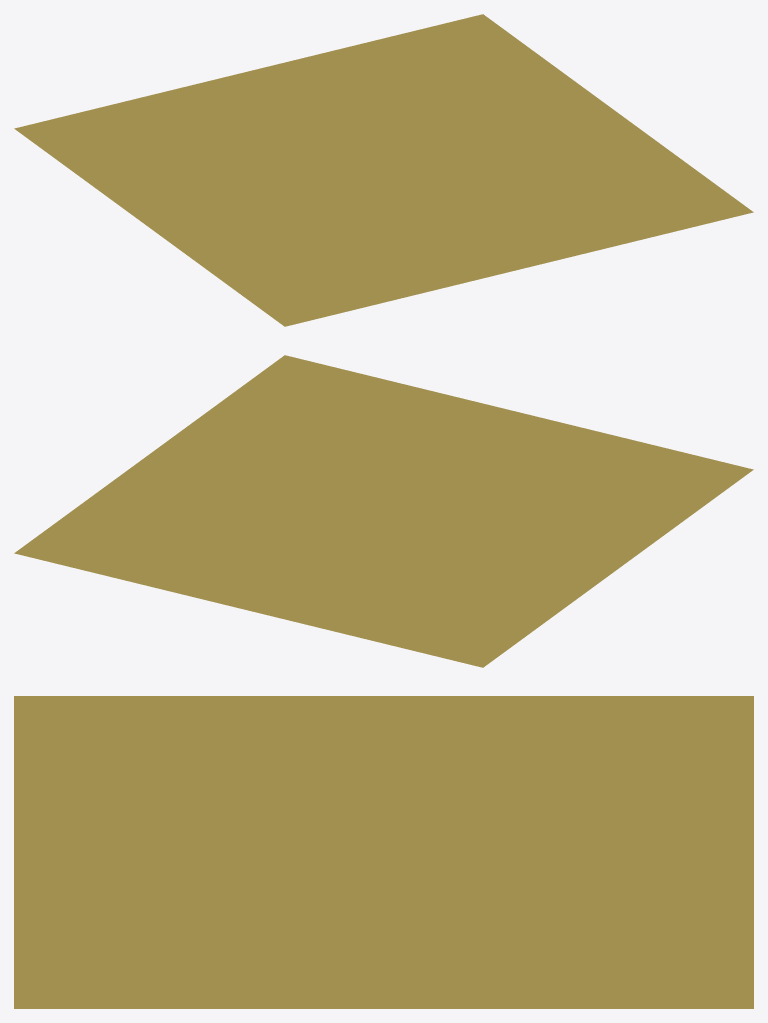
Rendered from tessuefoisé.glb.
3 views of the same model, one above another, from view 1: azimuth 30°, elevation 25°; view 2: azimuth 150°, elevation 25°; view 3: azimuth 270°, elevation 25° (orthographic). The views are drawn at different scales.
Visible parts, largest first — view 1: Plane; view 2: Plane; view 3: Plane.
Part boxes in pixels (x1=…): Plane: x1=14, y1=14, x2=753, y2=326; Plane: x1=14, y1=355, x2=753, y2=667; Plane: x1=14, y1=696, x2=753, y2=1008.
Bounding box in the file's own units: 2 × 0 × 2.
